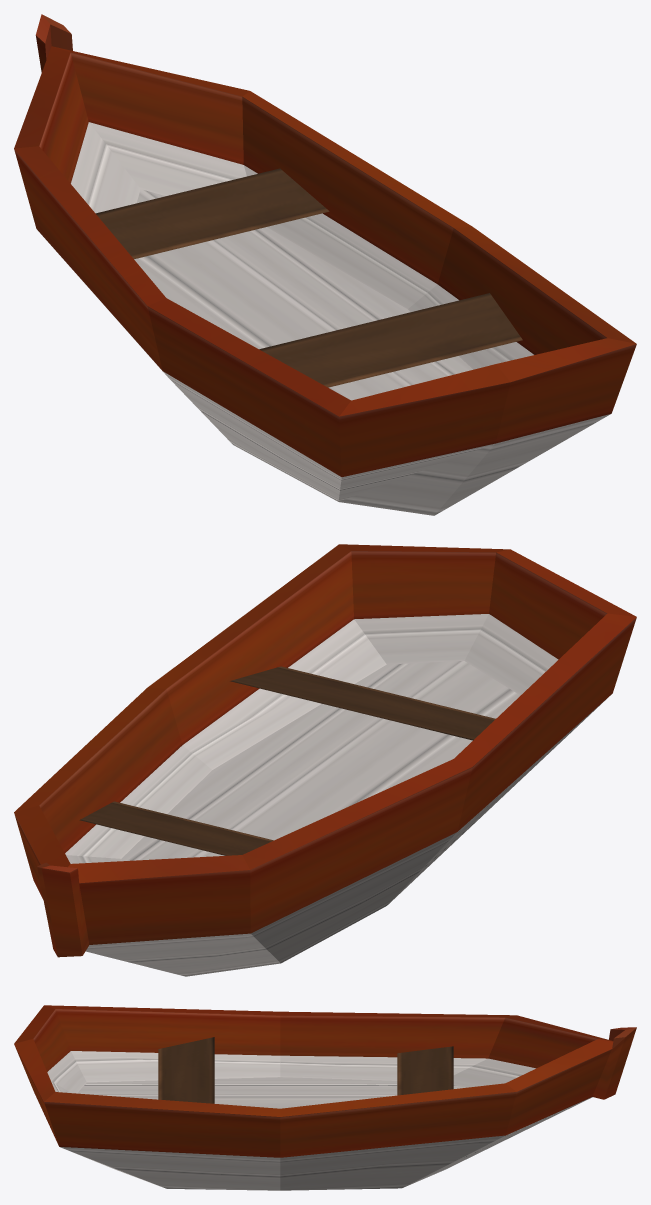
The model's file is co_Boat10.fbx.
3 renders of one model, top to bottom at view 1: azimuth 30°, elevation 25°; view 2: azimuth 150°, elevation 25°; view 3: azimuth 270°, elevation 25°, orthographic. The views are drawn at different scales.
Parts seen in each view (by area): view 1: Boat10; view 2: Boat10; view 3: Boat10.
Boxes of the visible parts, x1,y1,x2,y2 form: Boat10: (14, 14, 636, 515); Boat10: (14, 544, 636, 976); Boat10: (14, 1005, 636, 1190).
Size of the model in its own units: 1000 by 635 by 2499.
